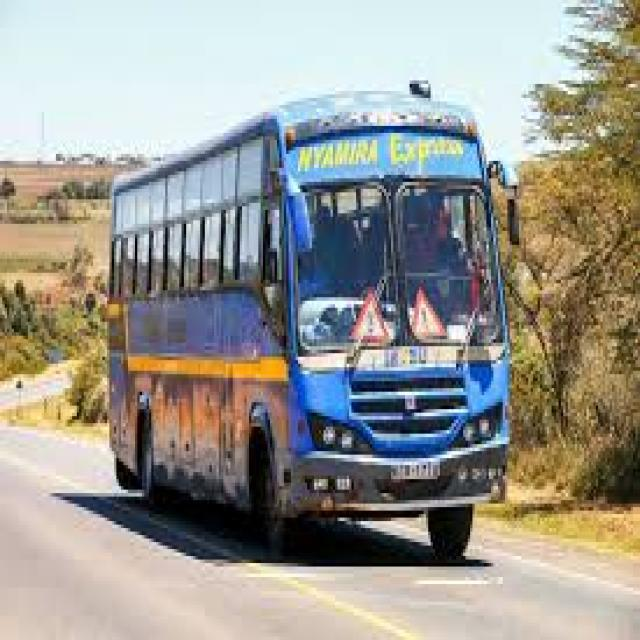bus: (84, 69, 592, 546)
